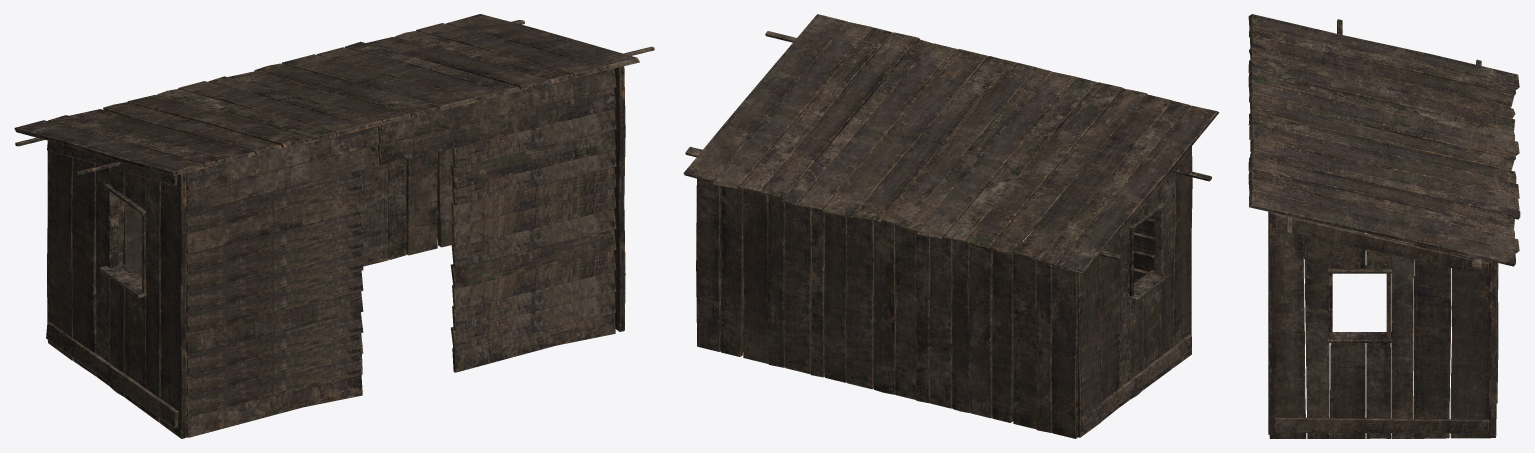
File: SM_Cabin_01.fbx
3 renders of one model, left to right at view 1: azimuth 30°, elevation 25°; view 2: azimuth 150°, elevation 25°; view 3: azimuth 270°, elevation 25°, orthographic. The views are drawn at different scales.
Parts seen in each view (by area): view 1: SM_Cabin_01_LOD0; view 2: SM_Cabin_01_LOD0; view 3: SM_Cabin_01_LOD0.
Boxes of the visible parts, x1,y1,x2,y2 form: SM_Cabin_01_LOD0: (14, 14, 654, 438); SM_Cabin_01_LOD0: (683, 14, 1219, 438); SM_Cabin_01_LOD0: (1248, 14, 1520, 438).
Size of the model in its own units: 522 by 268 by 257.
